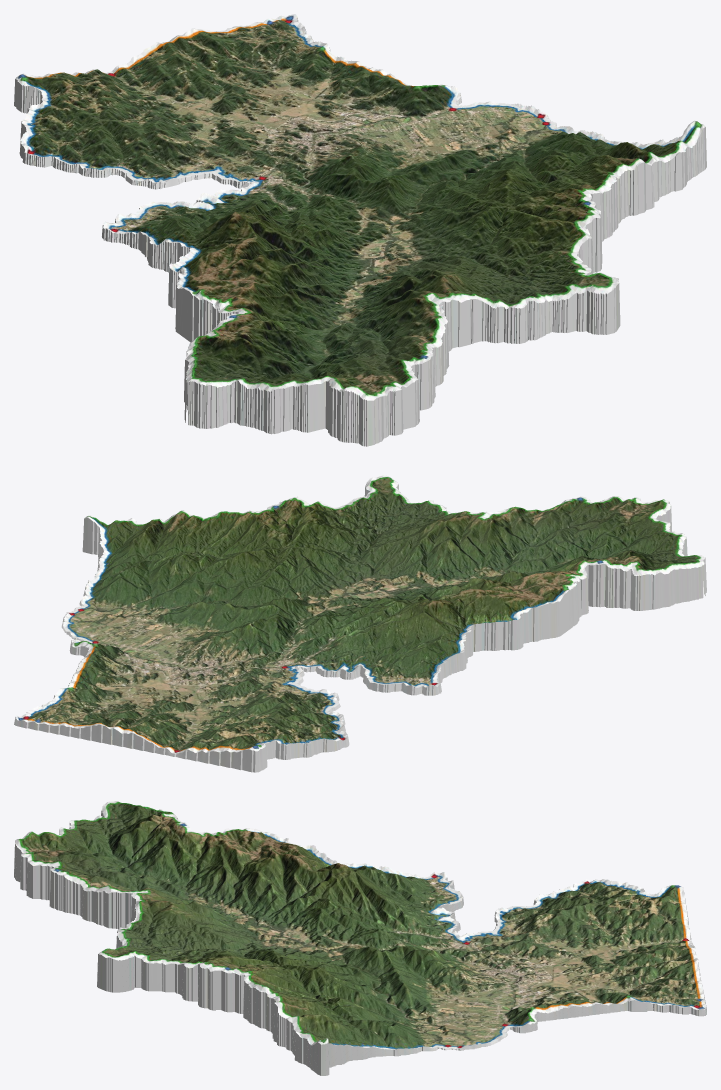
3 renders of one model, top to bottom at view 1: azimuth 30°, elevation 25°; view 2: azimuth 150°, elevation 25°; view 3: azimuth 270°, elevation 25°, orthographic. The views are drawn at different scales.
Bounding box in the file's own units: 1 × 0.0814 × 1.21.
1 material, 1 textured.
